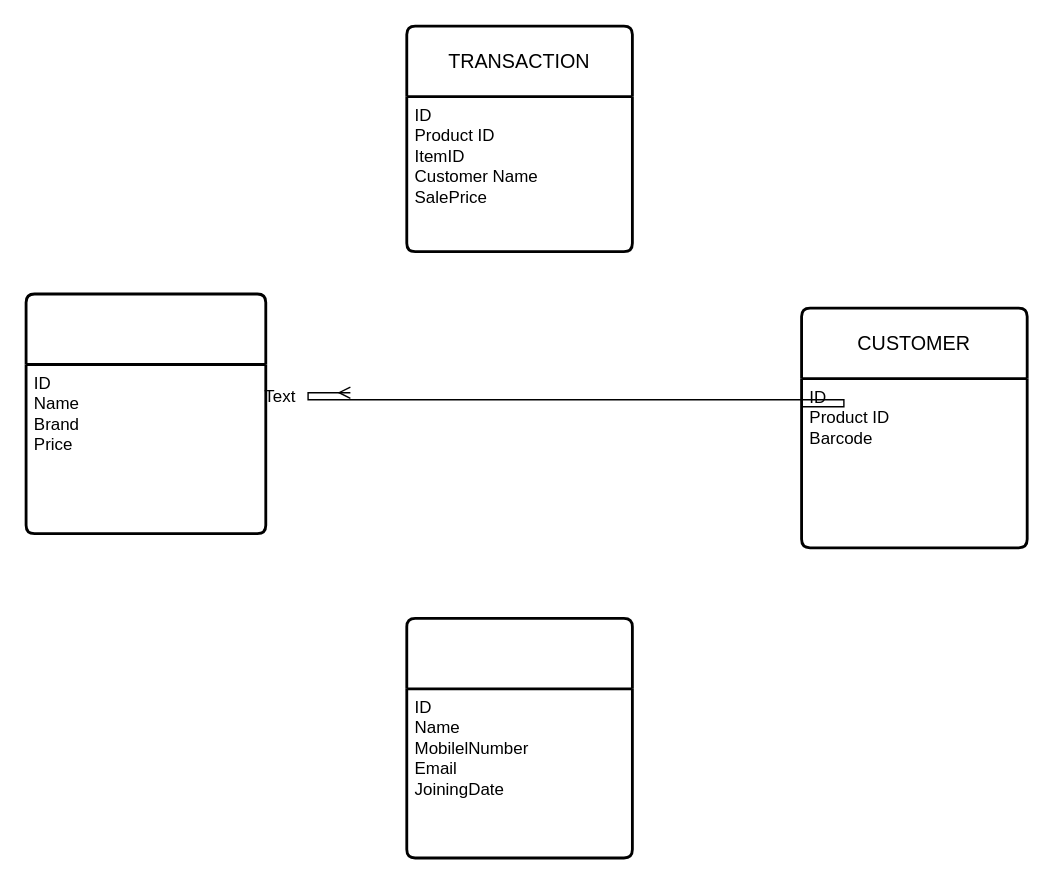
The diagram is 1052 pixels wide and 883 high, and some of its shapes have lost their labels. Here are the shapes that lost their labels. From the top down, the box of each, then its label:
(24, 292, 266, 534): PRODUCT
(405, 616, 633, 859): CASHIER
